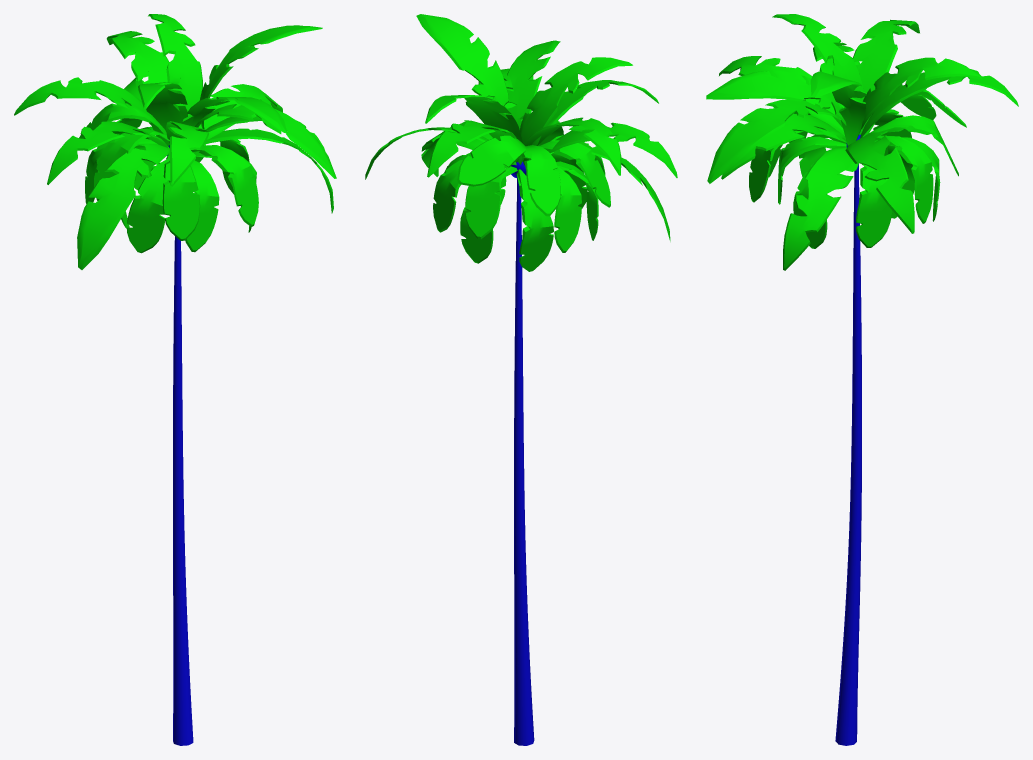
The model's file is B_Palm_tree_01_redo - Copy.fbx.
The picture shows the model from 3 angles, left to right: view 1: azimuth 30°, elevation 25°; view 2: azimuth 150°, elevation 25°; view 3: azimuth 270°, elevation 25°; orthographic projection. The views are drawn at different scales.
Parts seen in each view (by area): view 1: polySurface623, polySurface631, polySurface625, polySurface626, polySurface644, polySurface632, polySurface649, polySurface635, polySurface645, polySurface634, polySurface628, polySurface627 (+8 smaller); view 2: polySurface623, polySurface627, polySurface628, polySurface642, polySurface630, polySurface638, polySurface636, polySurface641, polySurface637, polySurface625, polySurface644, polySurface645 (+8 smaller); view 3: polySurface623, polySurface648, polySurface634, polySurface647, polySurface638, polySurface625, polySurface644, polySurface627, polySurface624, polySurface628, polySurface646, polySurface645 (+8 smaller).
Part boxes in pixels (x1,y1,x2,y2): polySurface623: (173, 236, 193, 745); polySurface631: (77, 144, 169, 269); polySurface625: (148, 14, 202, 116); polySurface626: (127, 159, 168, 253); polySurface644: (14, 77, 166, 135); polySurface632: (162, 153, 200, 240); polySurface649: (191, 145, 258, 226); polySurface635: (47, 121, 167, 184); polySurface645: (106, 31, 178, 84); polySurface634: (195, 104, 336, 178); polySurface628: (138, 82, 187, 145); polySurface627: (199, 25, 322, 128); polySurface623: (514, 178, 534, 745); polySurface627: (416, 14, 509, 114); polySurface628: (519, 57, 632, 165); polySurface642: (457, 135, 526, 186); polySurface630: (516, 169, 553, 271); polySurface638: (507, 40, 560, 129); polySurface636: (515, 145, 560, 216); polySurface641: (465, 162, 516, 239); polySurface637: (553, 166, 581, 252); polySurface625: (425, 95, 522, 143); polySurface644: (524, 117, 621, 175); polySurface645: (427, 120, 516, 177); polySurface623: (835, 164, 861, 745); polySurface648: (783, 147, 858, 270); polySurface634: (707, 99, 842, 183); polySurface647: (845, 132, 914, 233); polySurface638: (706, 70, 846, 125); polySurface625: (856, 57, 982, 140); polySurface644: (852, 19, 919, 131); polySurface627: (810, 71, 866, 146); polySurface624: (856, 164, 892, 247); polySurface628: (772, 14, 863, 134); polySurface646: (875, 135, 933, 223); polySurface645: (860, 69, 1018, 138).
Size of the model in its own units: 12.91 by 31.41 by 12.56.
